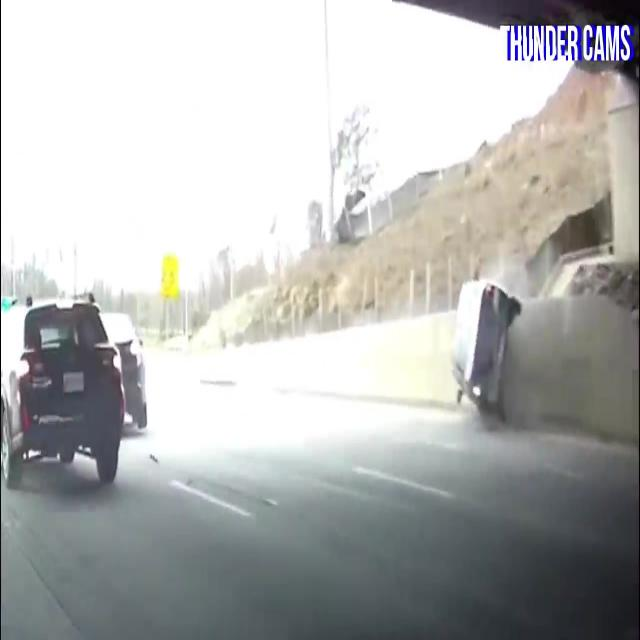accident: (443, 245, 529, 443)
